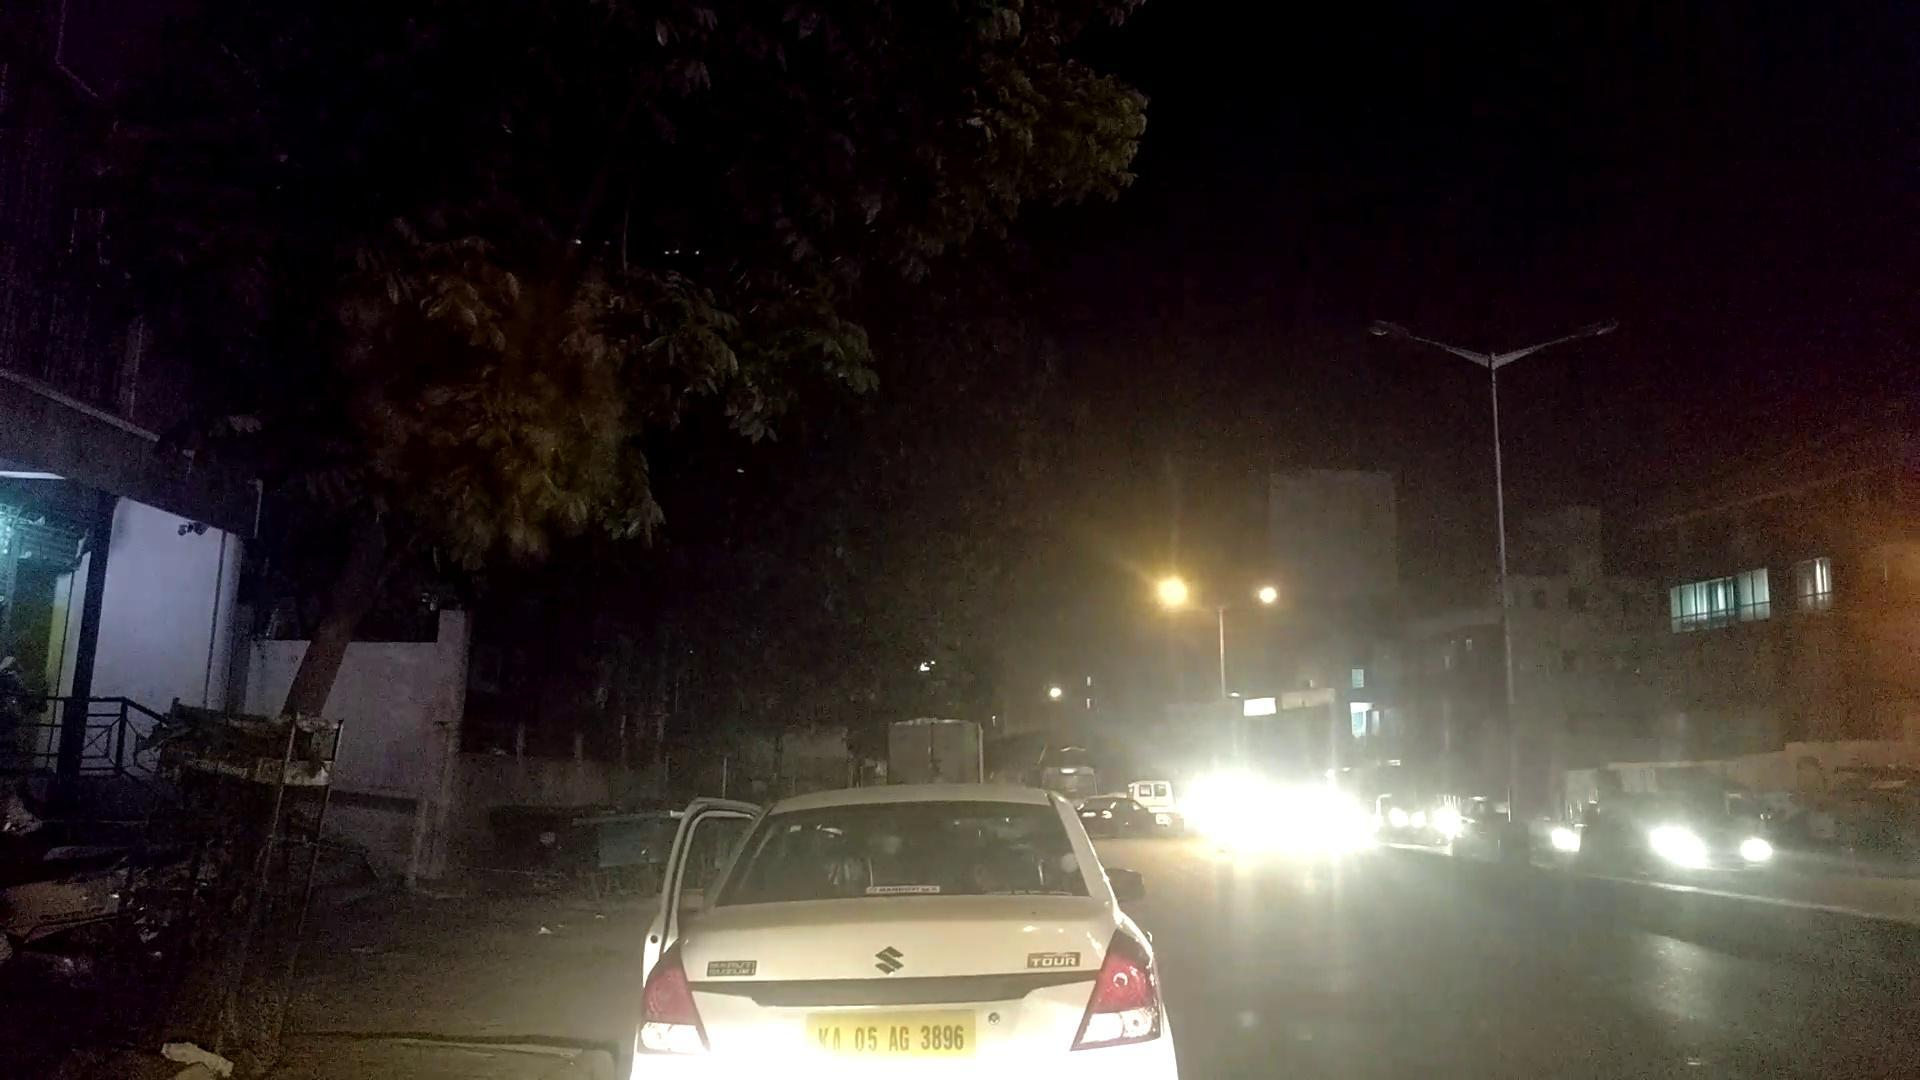on: (1040, 452, 1447, 899)
